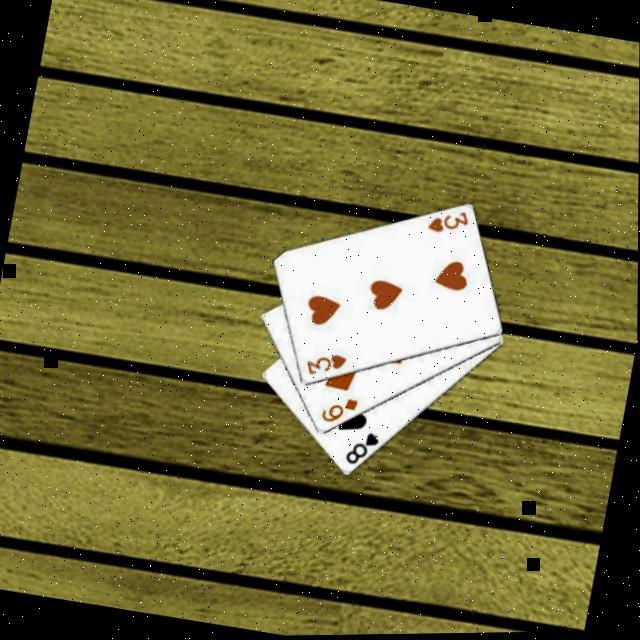3H: (302, 349, 352, 387), (424, 206, 474, 244)
6D: (318, 394, 363, 433)
8S: (342, 428, 384, 474)
